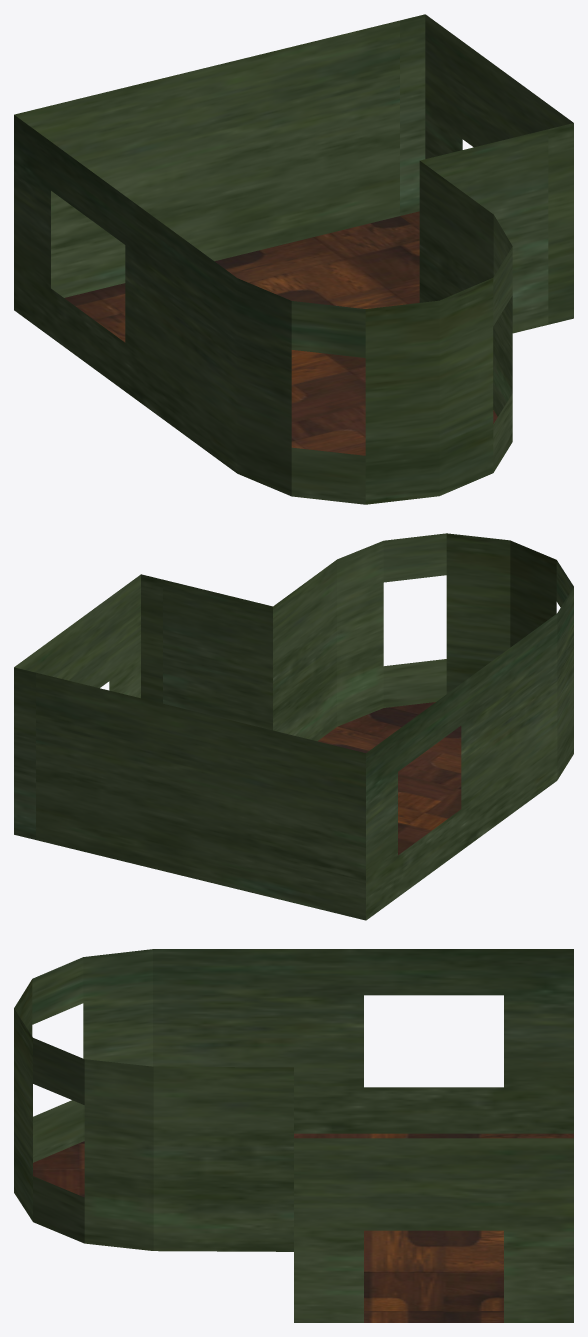
File: room2.fbx
The picture shows the model from 3 angles, top to bottom: view 1: azimuth 30°, elevation 25°; view 2: azimuth 150°, elevation 25°; view 3: azimuth 270°, elevation 25°; orthographic projection. The views are drawn at different scales.
Visible parts, largest first — view 1: Plane; view 2: Plane; view 3: Plane.
Boxes of the visible parts, bbox=[...] form: Plane: bbox=[14, 14, 573, 504]; Plane: bbox=[14, 533, 573, 920]; Plane: bbox=[14, 949, 573, 1322].
Size of the model in its own units: 15.99 by 19.99 by 7.29.
2 materials, 2 textured.
